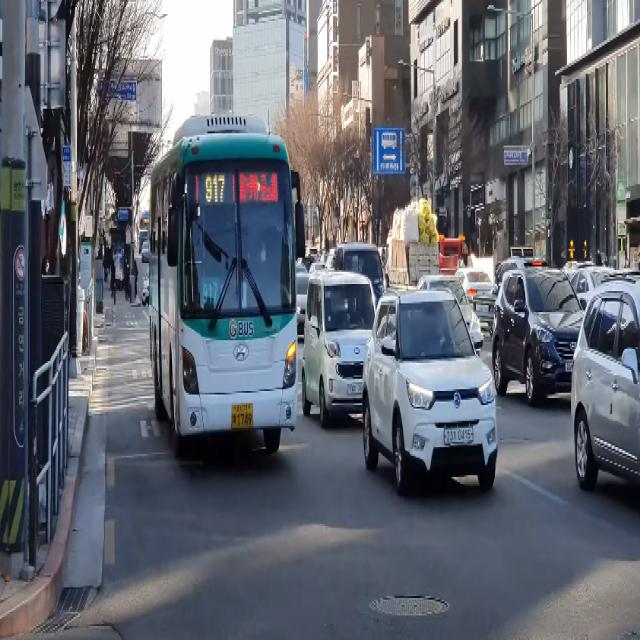bus-number: (204, 173, 226, 203)
